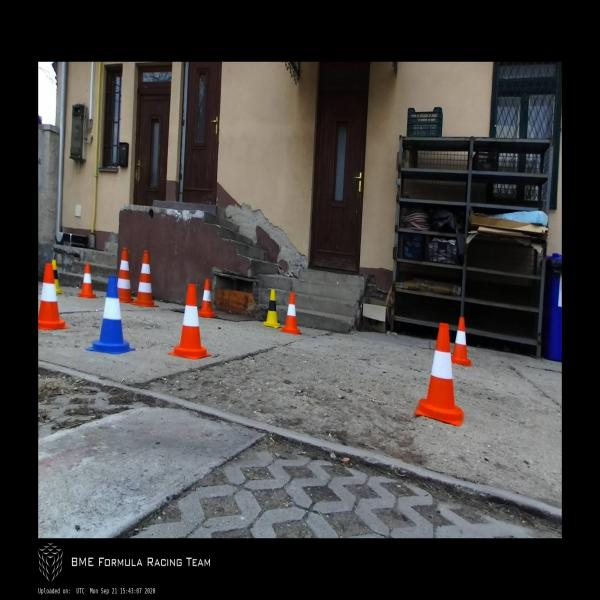blue_cone: (86, 275, 135, 355)
large_orange_cone: (131, 250, 159, 308), (116, 247, 134, 304)
orange_cone: (415, 322, 464, 427), (169, 284, 211, 359), (38, 263, 70, 330), (450, 316, 472, 367), (280, 291, 301, 334), (198, 278, 217, 318), (79, 263, 96, 298)
yellow_cone: (263, 289, 280, 328), (52, 259, 63, 293)
